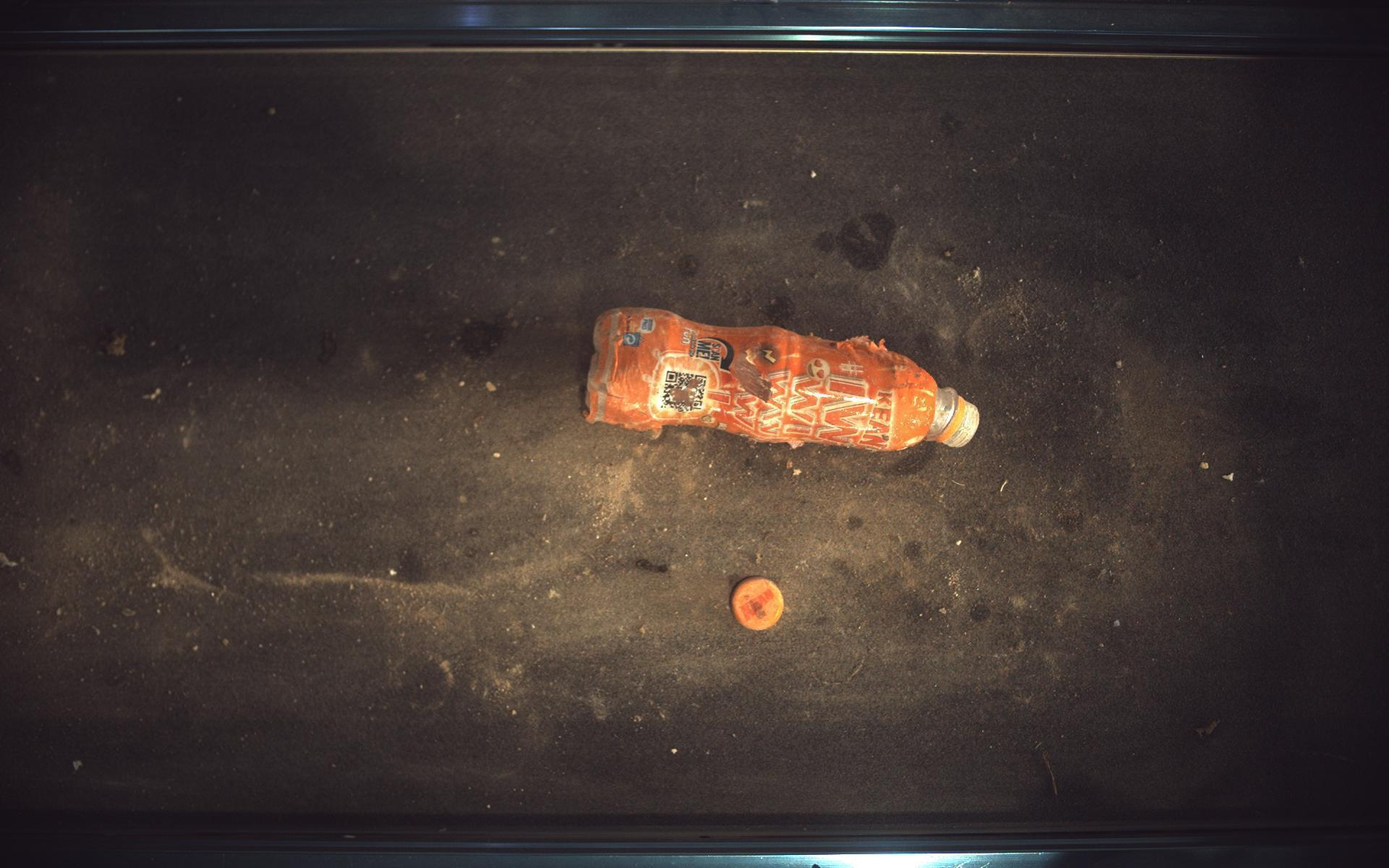general_w: (587, 309, 982, 451), (732, 578, 786, 631)
